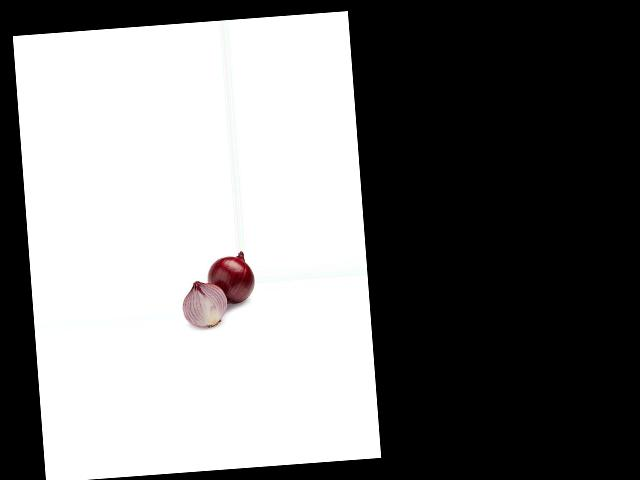onion: (182, 278, 225, 328)
